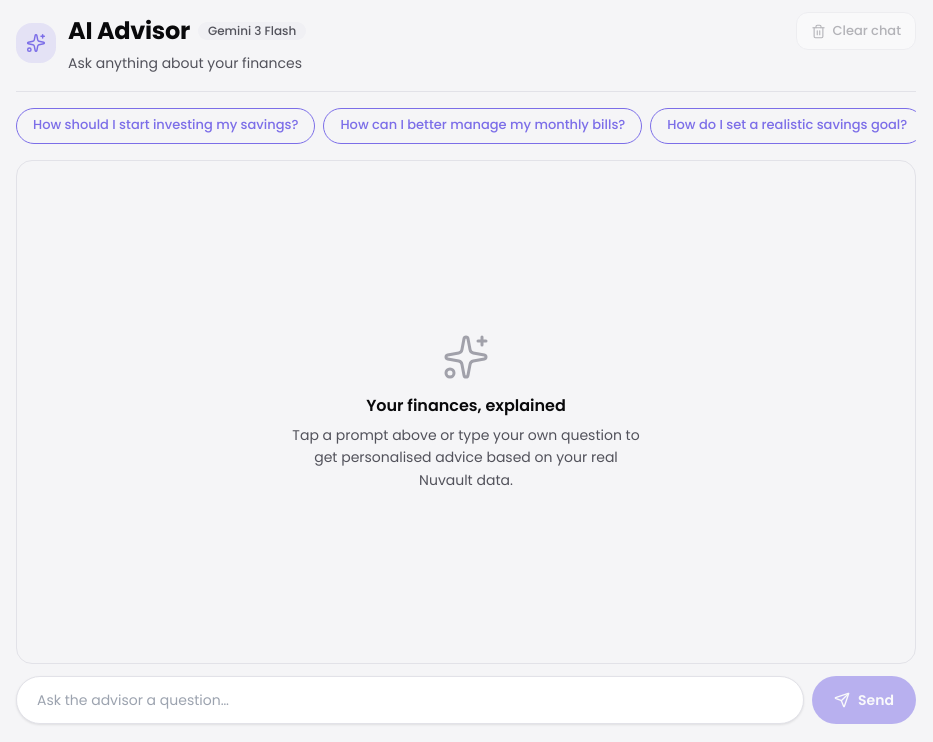
Test case: AiChat › shows the error message when the AI endpoint fails
The image size is (933, 742).
Type "hello" into the field with placeholder "Ask the advisor a question…".
click(410, 700); type("hello")  # box x1=16 y1=676 x2=804 y2=724
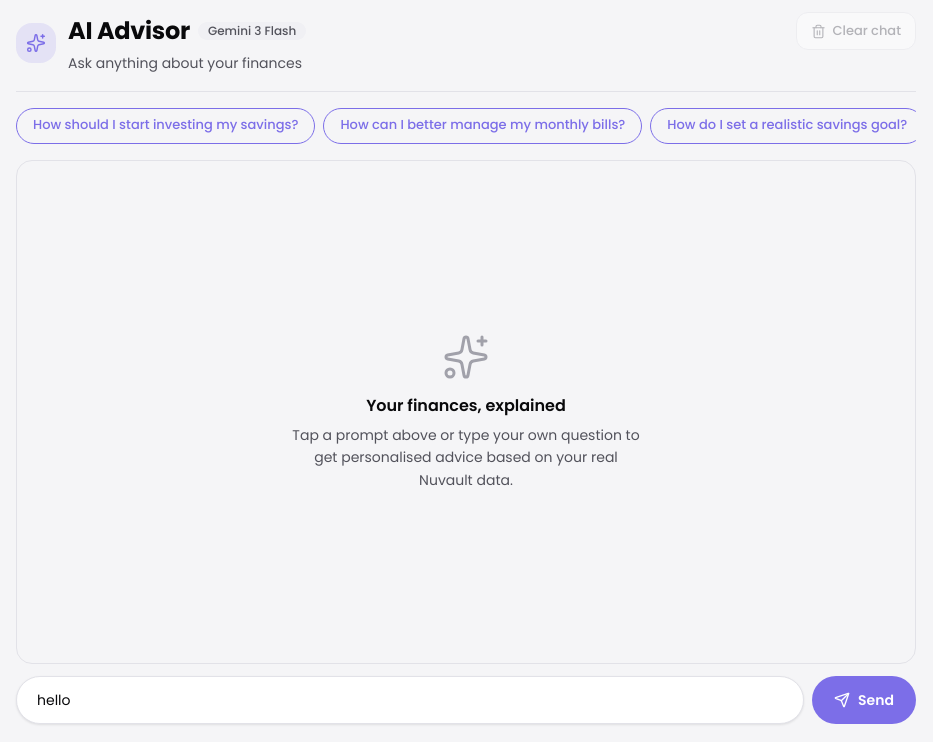
Click the button "Send".
click(864, 700)  # box x1=812 y1=676 x2=916 y2=724
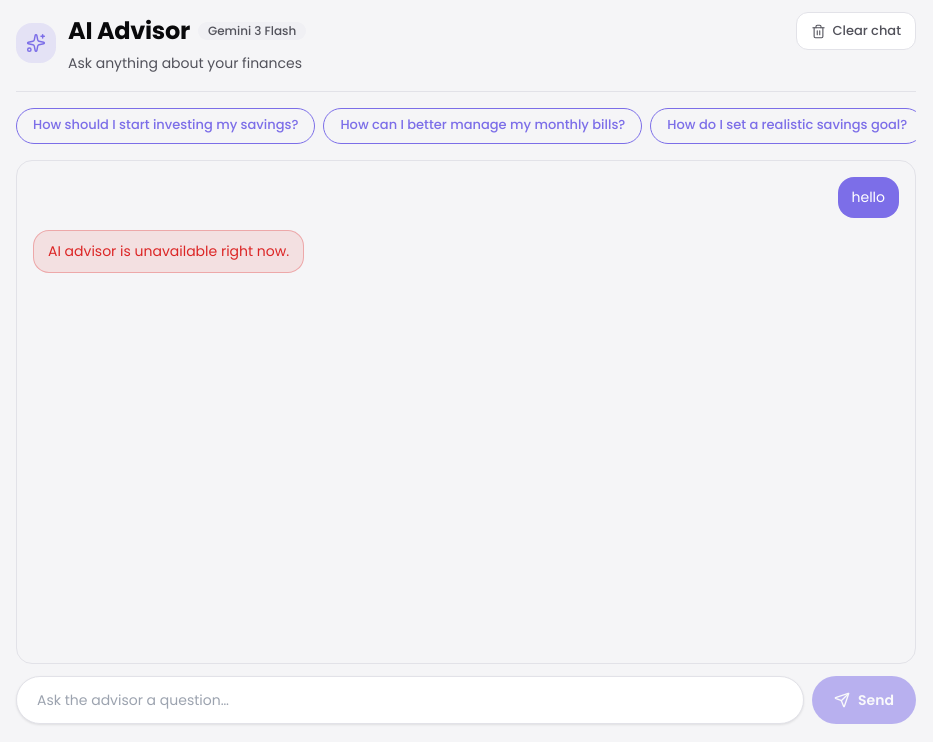
Check: the text "AI advisor is unavailable right now." is shown, box x1=33 y1=230 x2=304 y2=273
